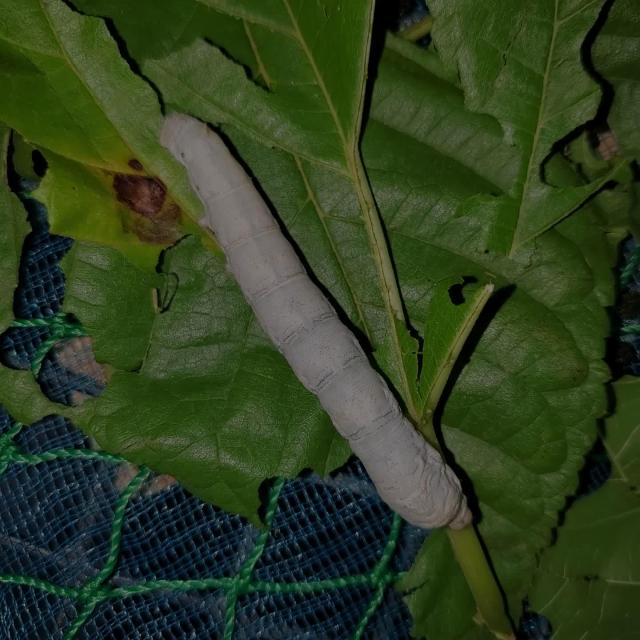Healthy: (142, 89, 506, 553)
